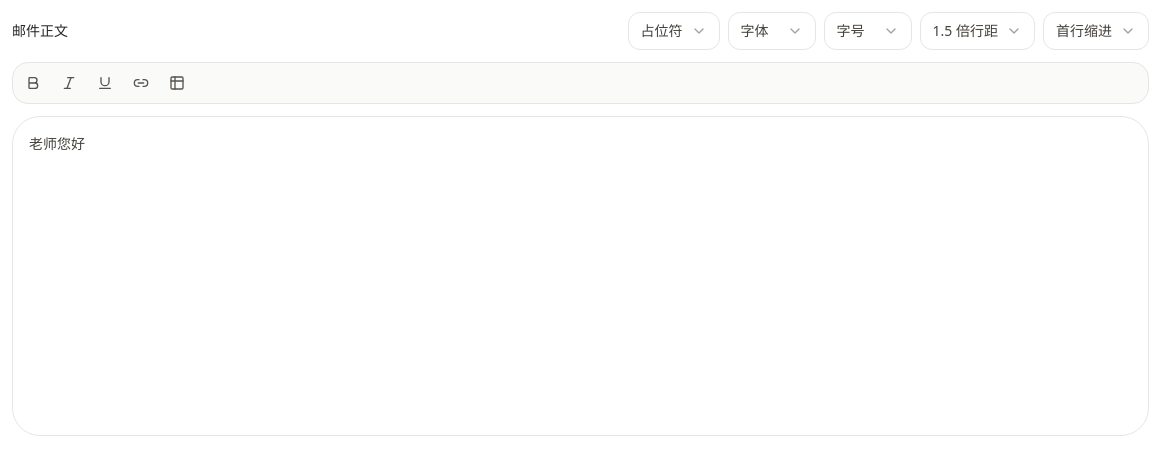
Test: EmailTemplateEditor › offers expanded typography choices with readable labels
This screenshot has width=1164, height=453.
Expected: the button with aria-label "行距菜单" reads "1.5 倍行距", [920, 12, 1035, 50]
Click the button with aria-label "字号菜单": {"x": 868, "y": 31} [824, 12, 912, 50]
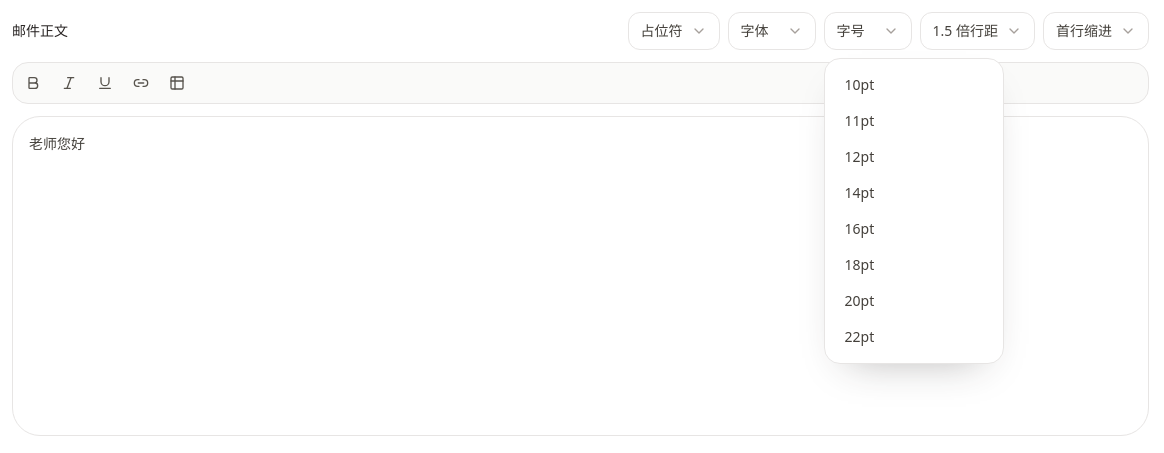
Expected: the button "10pt" is shown, [833, 67, 995, 103]
Expected: the button "22pt" is shown, [833, 319, 995, 355]
Click the button with aria-label "字体菜单": {"x": 772, "y": 31} [728, 12, 816, 50]
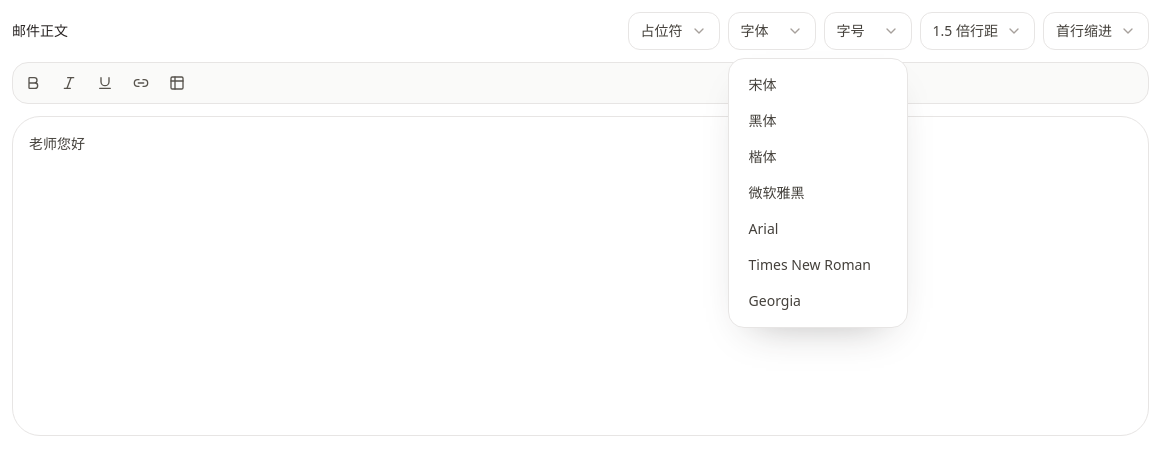
Expected: the button "黑体" is shown, [737, 103, 899, 139]
Expected: the button "Arial" is shown, [737, 211, 899, 247]
